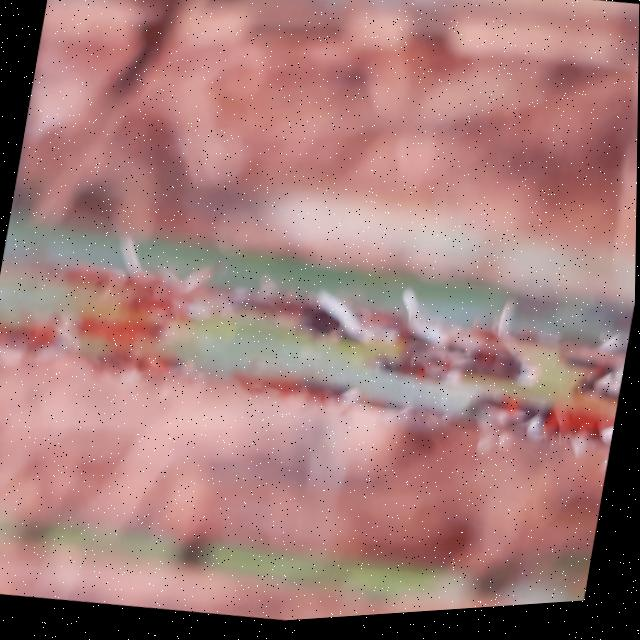black_stem_rust: (0, 160, 638, 543)
